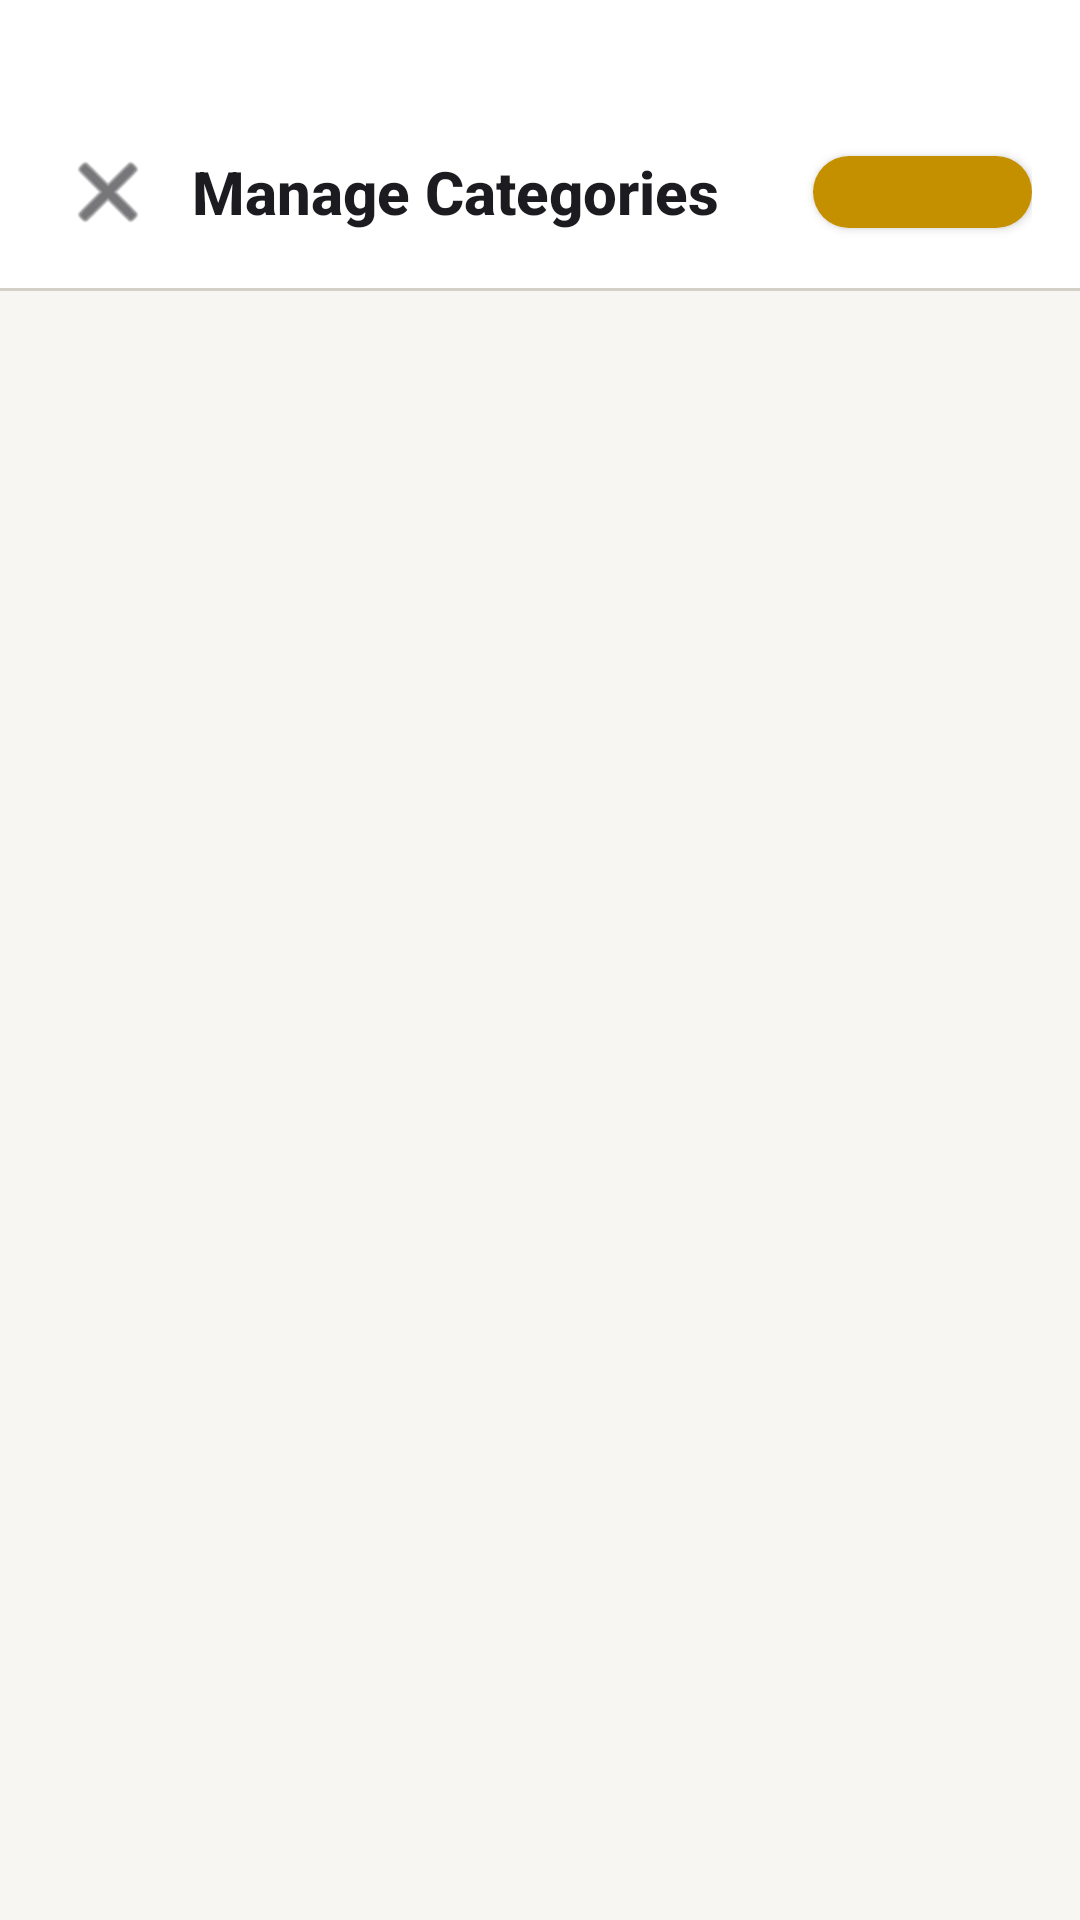

Where icons sit on this 1080px×1920px app screen, as (x1, y1, x2, y2):
close clear cancel: (78, 162, 138, 222)
